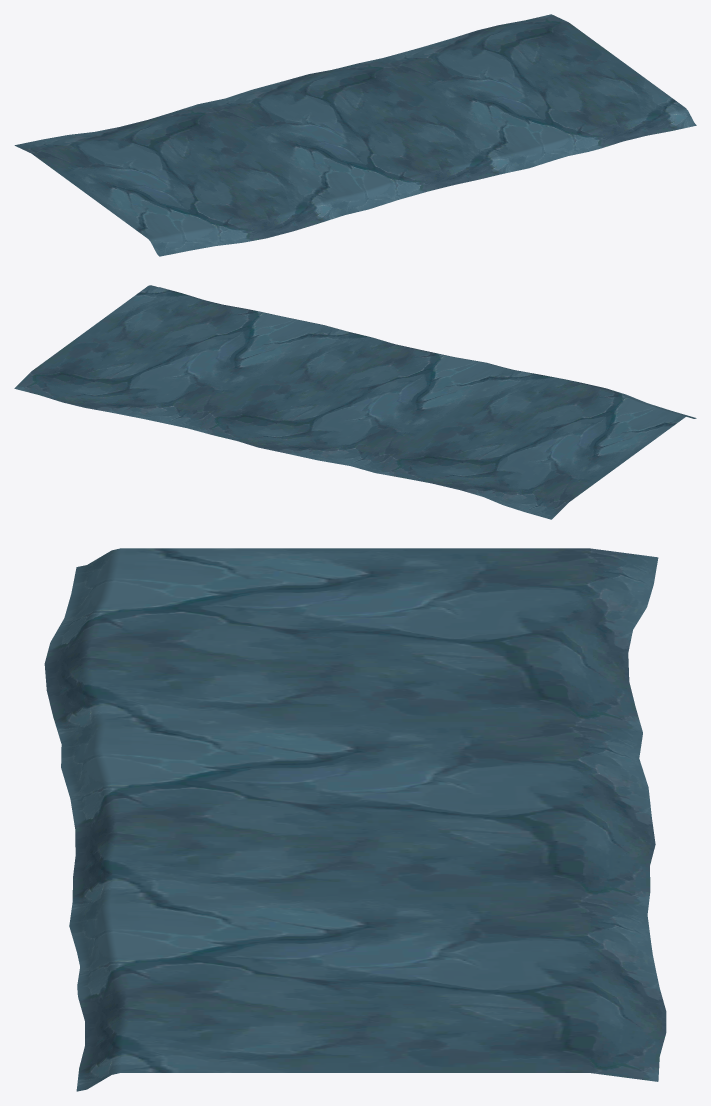
Rendered from map_113_dibiao_1.fbx.
3 views of the same model, one above another, from view 1: azimuth 30°, elevation 25°; view 2: azimuth 150°, elevation 25°; view 3: azimuth 270°, elevation 25° (orthographic). The views are drawn at different scales.
Parts seen in each view (by area): view 1: map_113_dibiao_1; view 2: map_113_dibiao_1; view 3: map_113_dibiao_1.
Part boxes in pixels (x1,y1,x2,y2): map_113_dibiao_1: [14, 14, 696, 256]; map_113_dibiao_1: [14, 285, 696, 519]; map_113_dibiao_1: [44, 548, 666, 1091].
Bounding box in the file's own units: 60 × 1.01 × 30.05.
